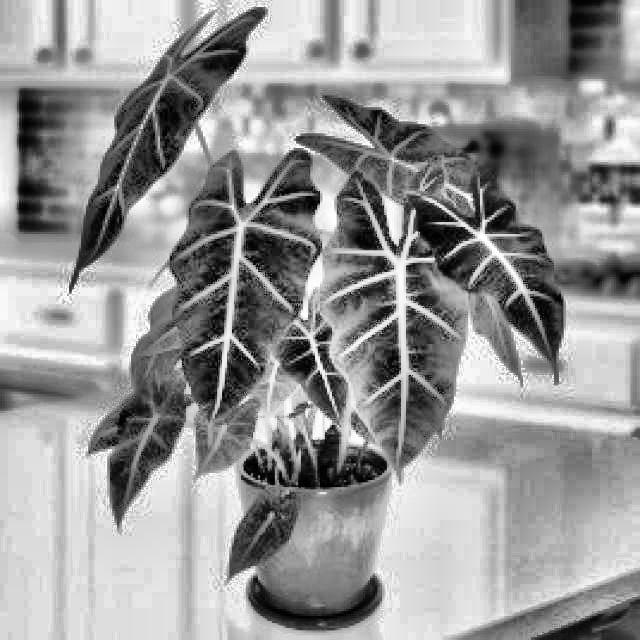plants: (98, 5, 550, 638)
